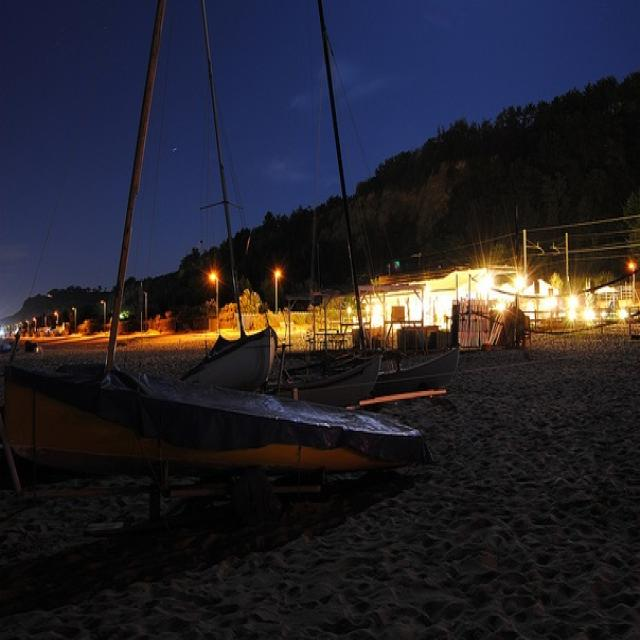Boat: (5, 8, 430, 475), (269, 300, 383, 411), (144, 320, 280, 404), (365, 295, 466, 407)
